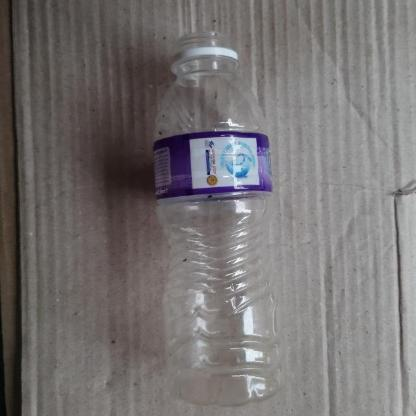Plastic Bottle: (152, 32, 280, 406)
